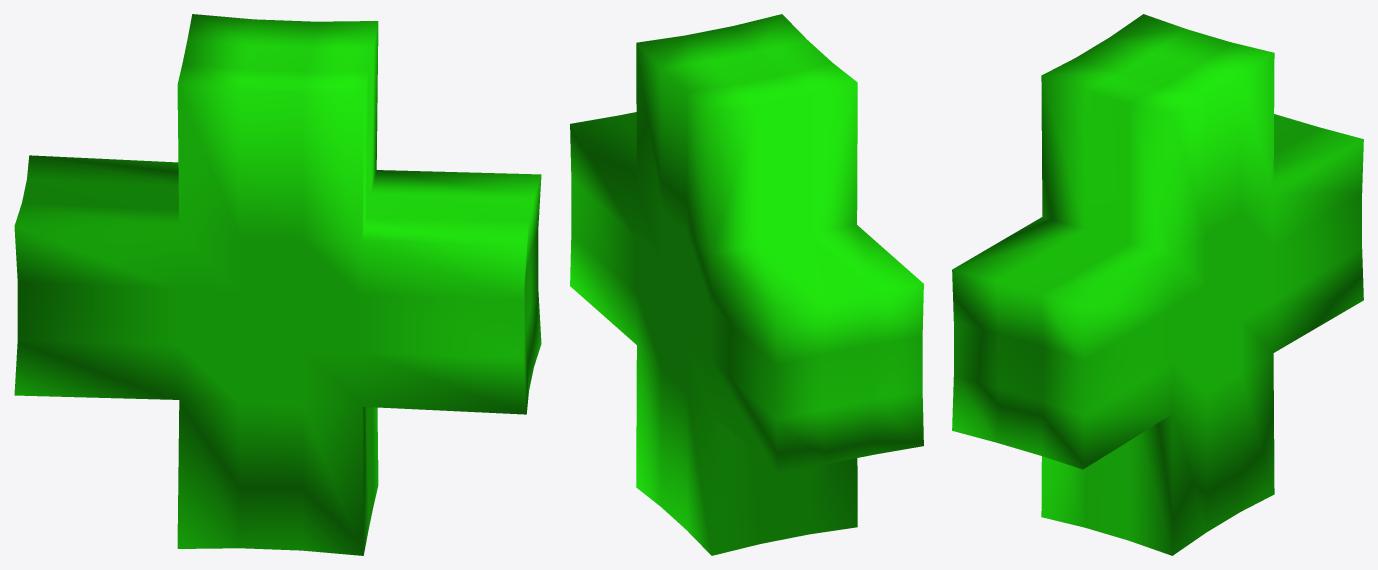
File: HealthConsumable.fbx
3 renders of one model, left to right at view 1: azimuth 30°, elevation 25°; view 2: azimuth 150°, elevation 25°; view 3: azimuth 270°, elevation 25°, orthographic. The views are drawn at different scales.
Visible parts, largest first — view 1: Health Consumable; view 2: Health Consumable; view 3: Health Consumable.
Part boxes in pixels (x1=…): Health Consumable: x1=14, y1=14, x2=541, y2=555; Health Consumable: x1=570, y1=14, x2=923, y2=555; Health Consumable: x1=952, y1=14, x2=1363, y2=555.
Size of the model in its own units: 185 by 183 by 154.
